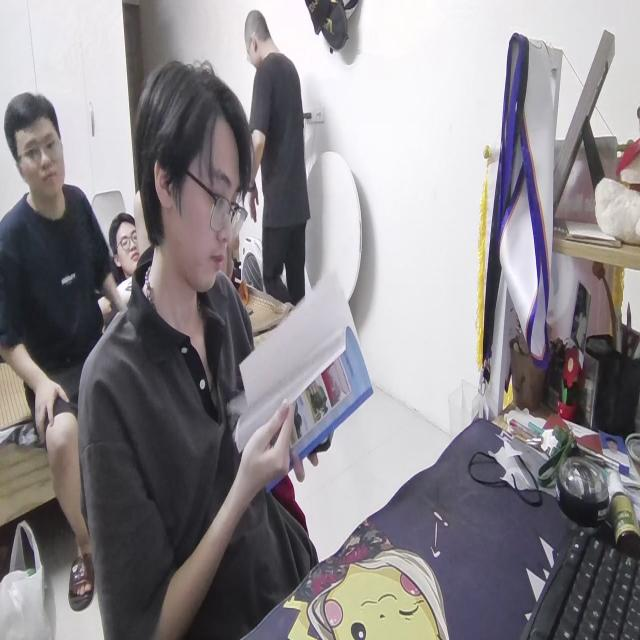book: (235, 264, 372, 478)
extra_person: (0, 90, 123, 613), (242, 14, 312, 319), (107, 208, 144, 309)
student: (77, 66, 316, 639)
